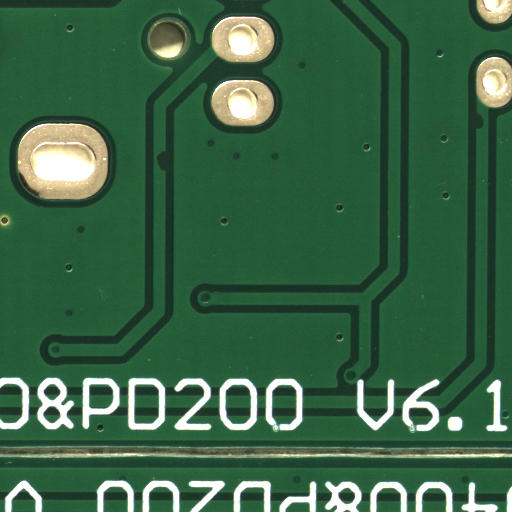Mouse_bite: (162, 160, 171, 179), (479, 121, 488, 138)
